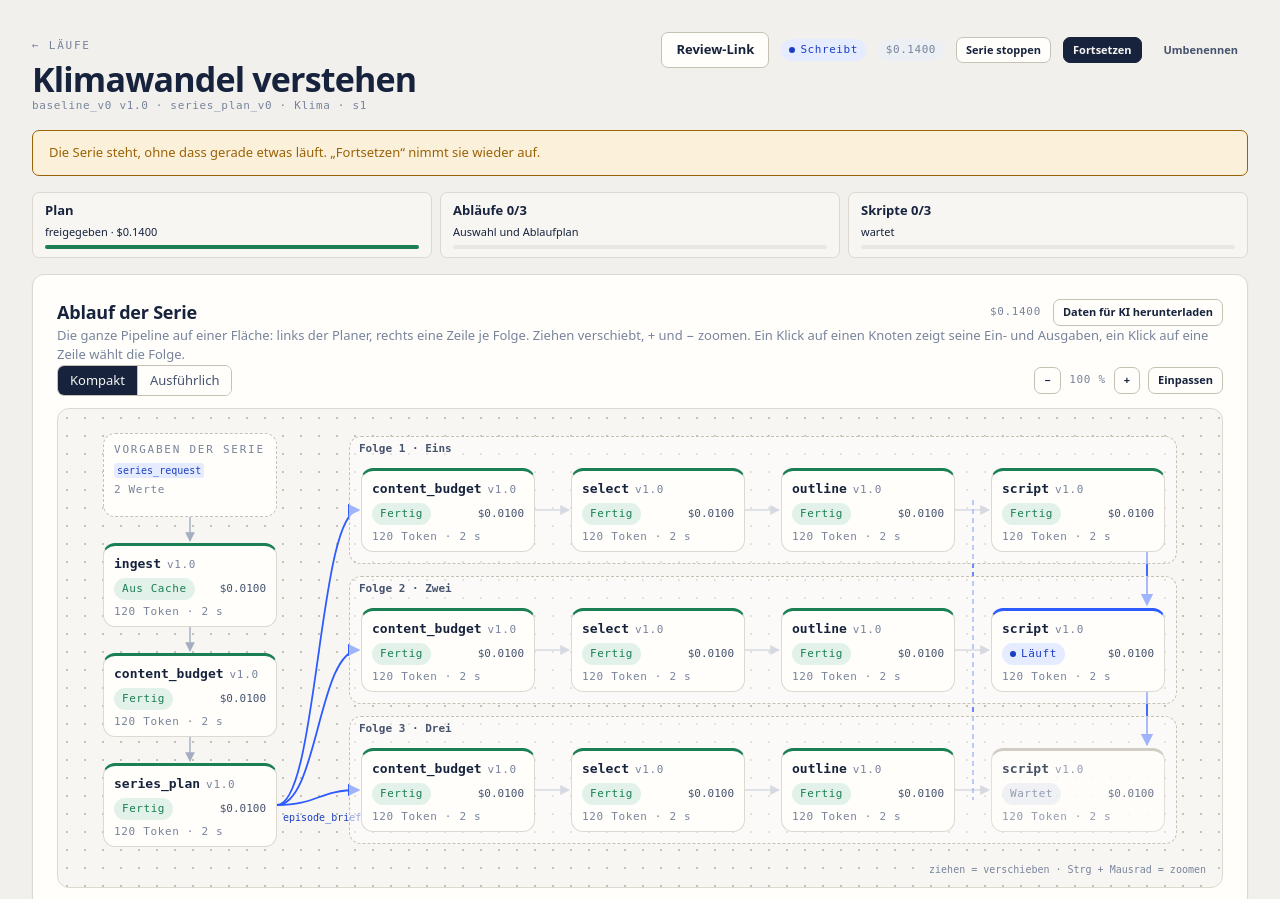
Test: series view › polls a stopped worker without reopening SSE after stop
Click the button "Serie stoppen" at (1004, 50), box [956, 36, 1051, 63]
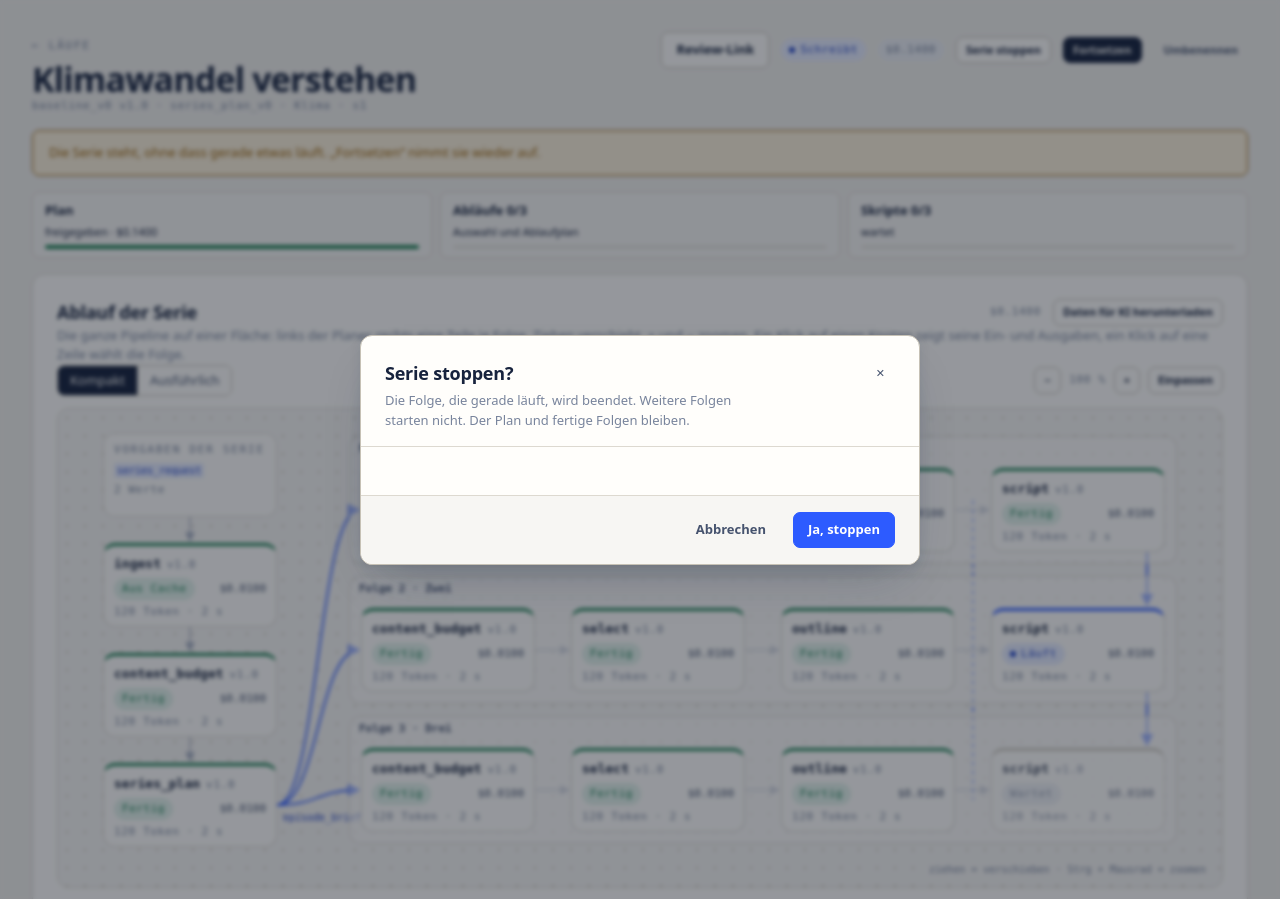
Click the button "Ja, stoppen" at (844, 530), box [793, 512, 895, 548]
Wait 9000 ms
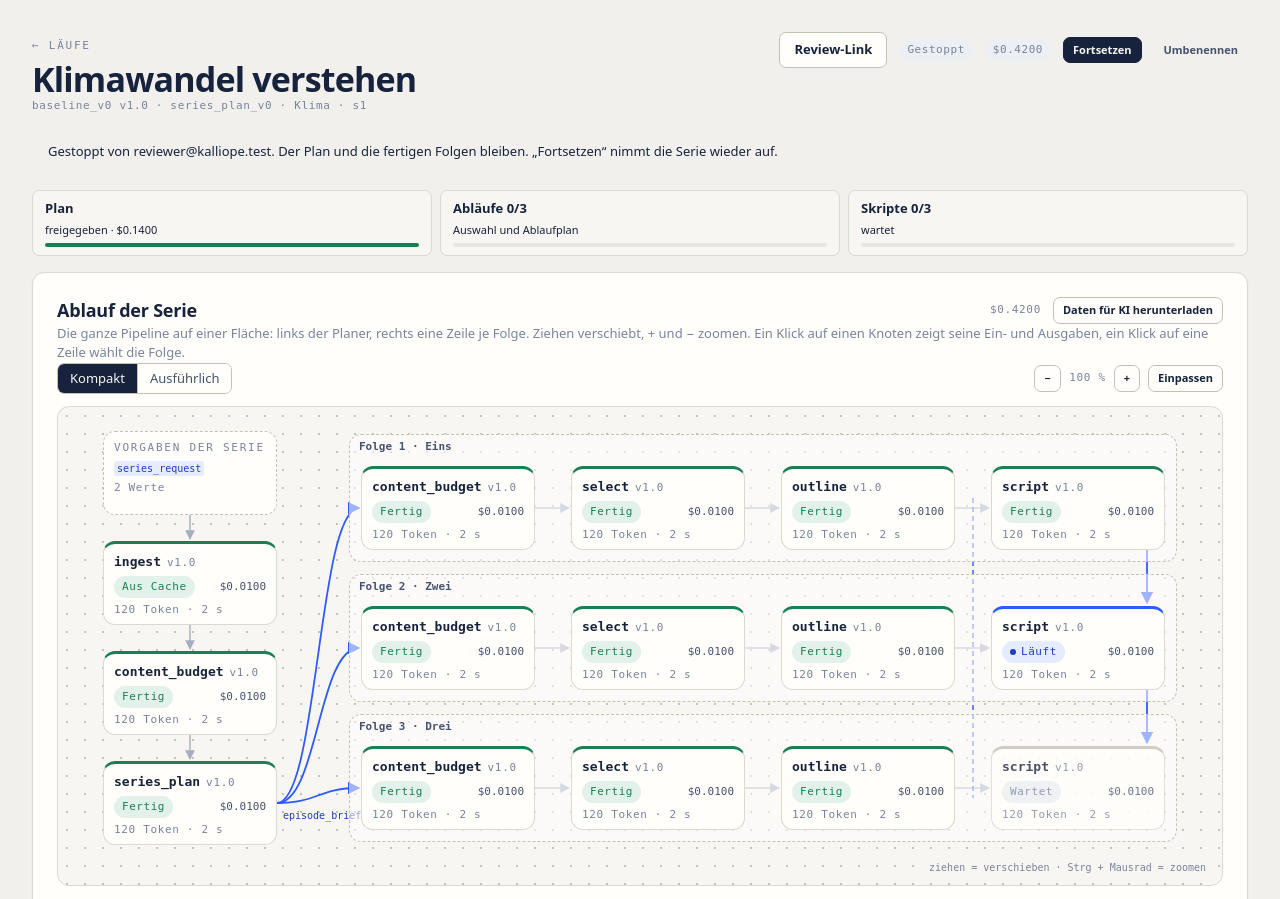
Check: the text "$0.4200" is shown, box [985, 38, 1051, 61]
